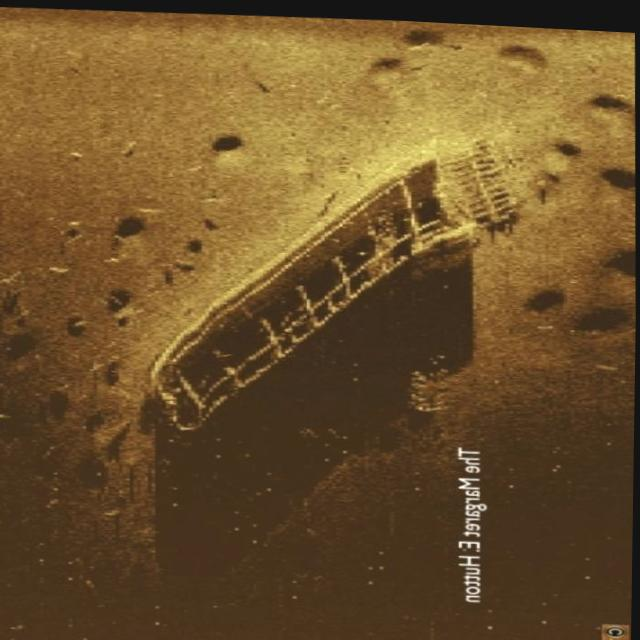shipwreck: (148, 138, 508, 442)
